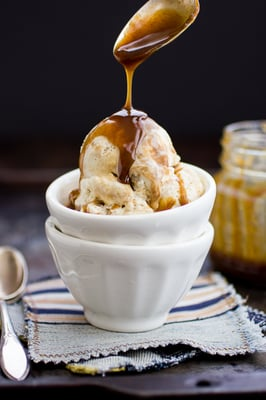sushi: (43, 162, 217, 333)
